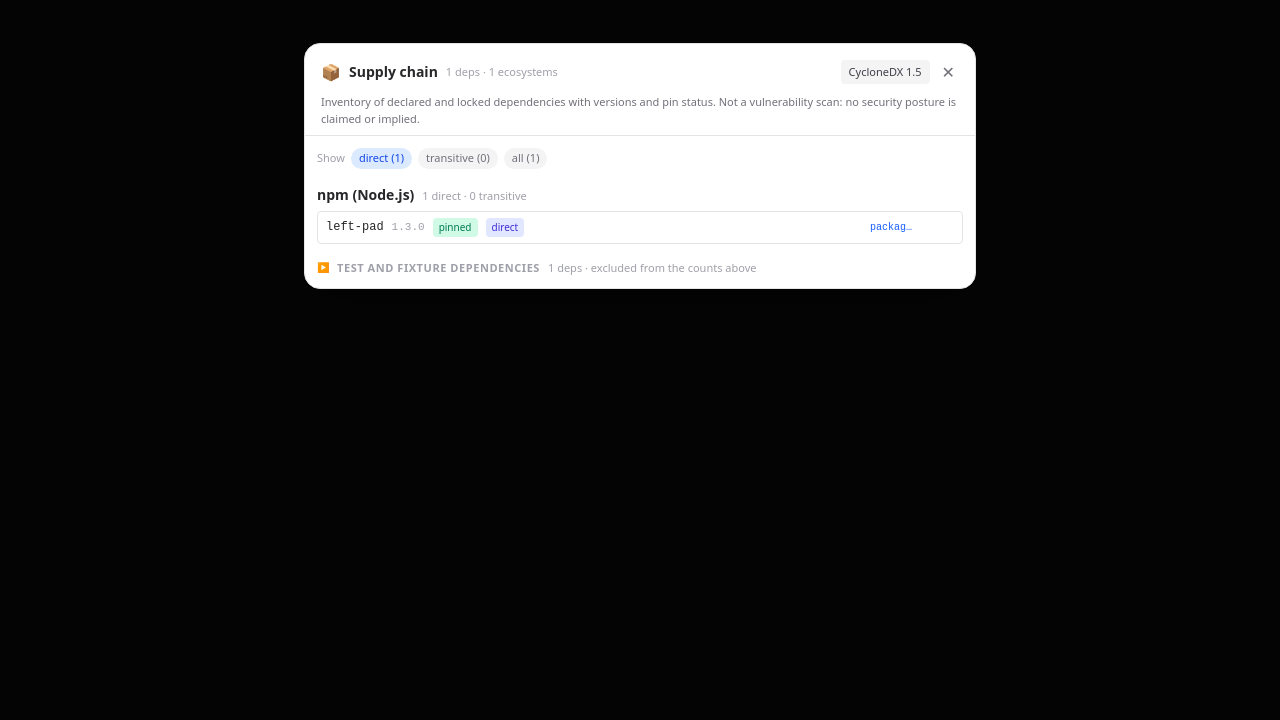
SupplyChainSurface › keeps fixture dependencies out of the shipping tables but accounts for them
The image size is (1280, 720).
Expected: the text "left-pad" is shown, [326,219,384,235]
Expected: the text "fixture-only-dep" is not shown
Click the button that starts with "Test and fixture dependencies" at (640, 268), box [317,260,963,276]
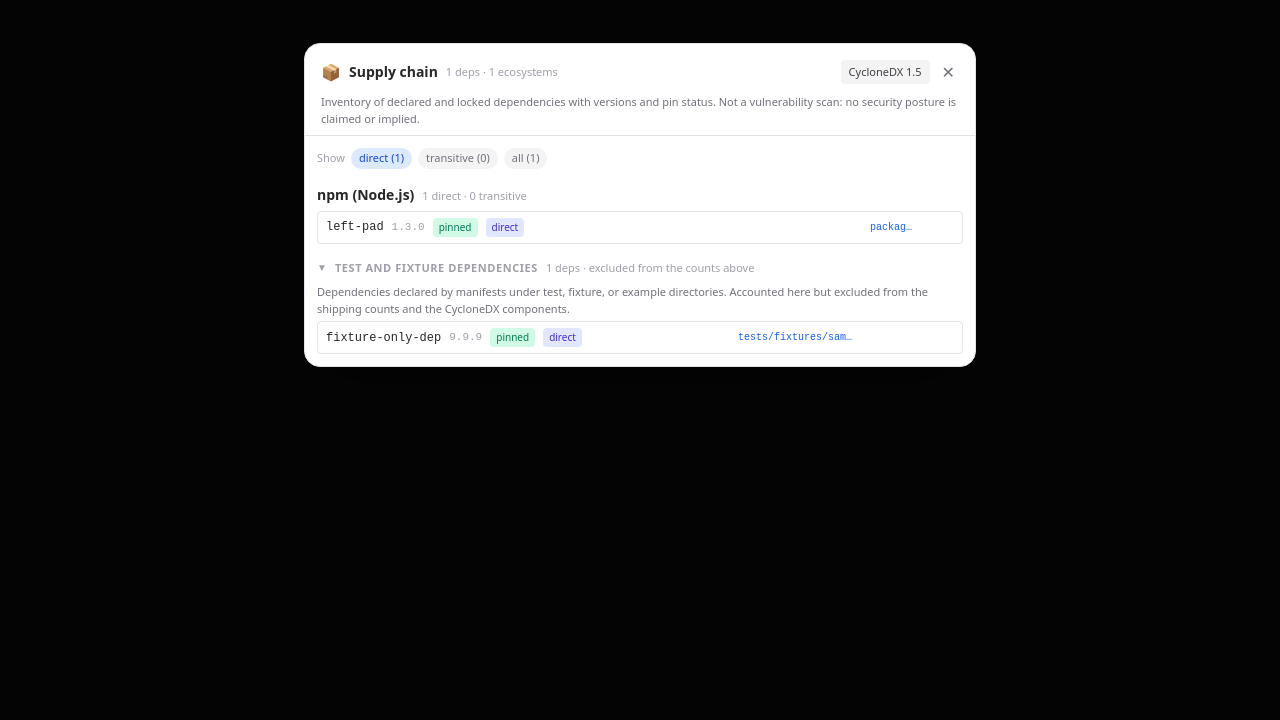
Now the text "fixture-only-dep" is shown, box [326,330,441,346]
